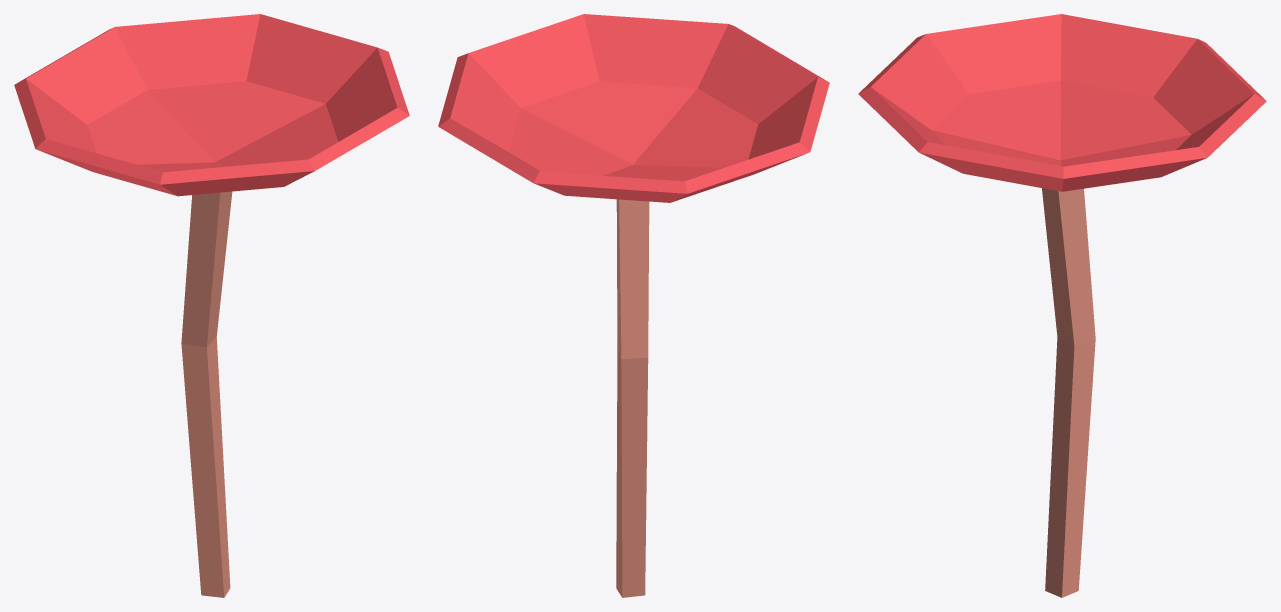
The model's file is Mushroom_d_01.fbx.
The picture shows the model from 3 angles, left to right: view 1: azimuth 30°, elevation 25°; view 2: azimuth 150°, elevation 25°; view 3: azimuth 270°, elevation 25°; orthographic projection.
Parts seen in each view (by area): view 1: Mushroom_d_01; view 2: Mushroom_d_01; view 3: Mushroom_d_01.
Part boxes in pixels (x1,y1,x2,y2): Mushroom_d_01: [14, 14, 409, 597]; Mushroom_d_01: [438, 14, 829, 597]; Mushroom_d_01: [858, 14, 1266, 597].
Bounding box in the file's own units: 0.2275 × 0.31 × 0.2276.
